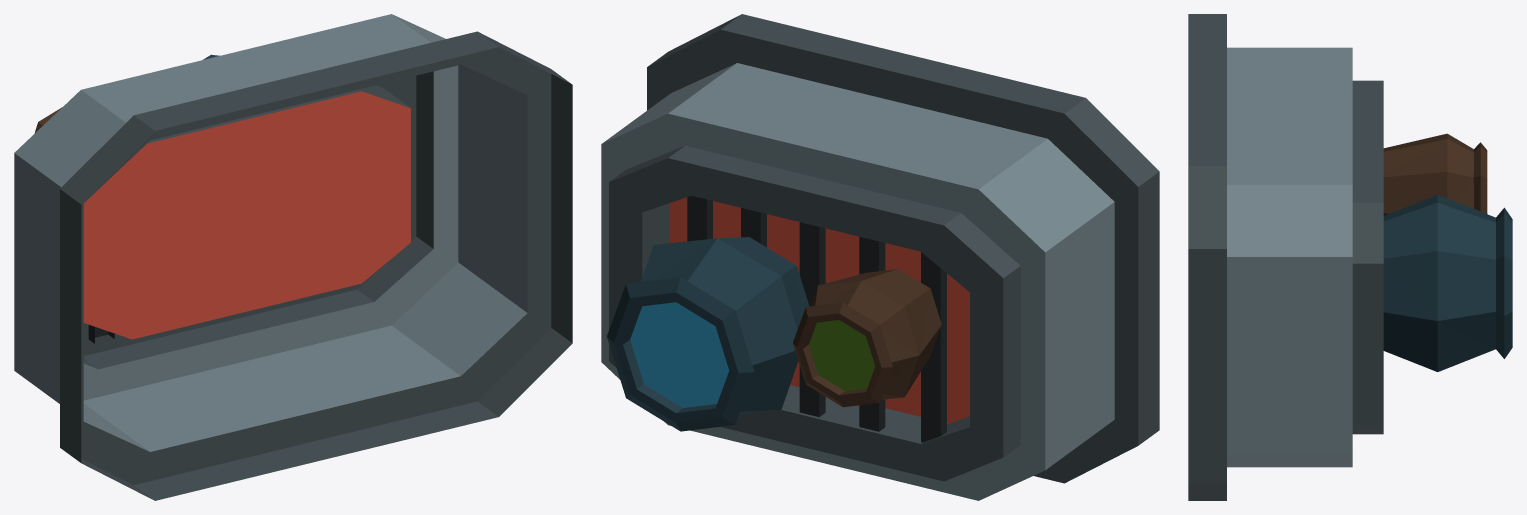
The model's file is Stove 01.FBX.
3 renders of one model, left to right at view 1: azimuth 30°, elevation 25°; view 2: azimuth 150°, elevation 25°; view 3: azimuth 270°, elevation 25°, orthographic. The views are drawn at different scales.
Parts seen in each view (by area): view 1: Stove 01; view 2: Stove 01; view 3: Stove 01.
Boxes of the visible parts, box(x1,y1,x2,y2) form: Stove 01: box(14, 14, 572, 500); Stove 01: box(601, 14, 1159, 500); Stove 01: box(1188, 14, 1512, 500).
Size of the model in its own units: 175 by 110 by 126.
